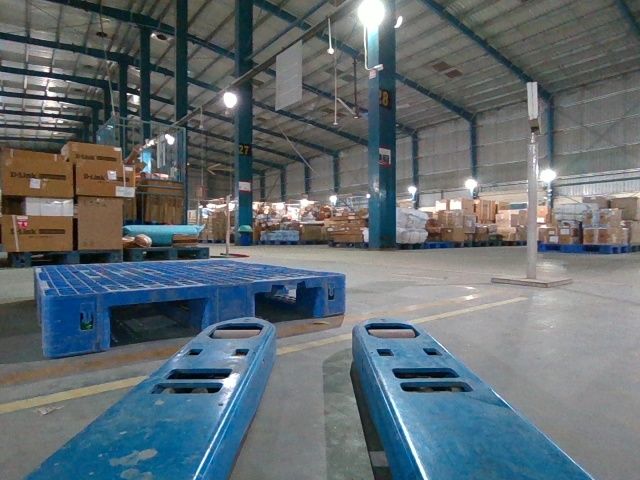block: (44, 291, 111, 356), (209, 282, 258, 324), (322, 272, 348, 321)
front: (45, 274, 345, 357)
hole pallet: (107, 291, 211, 344), (252, 279, 324, 320)
